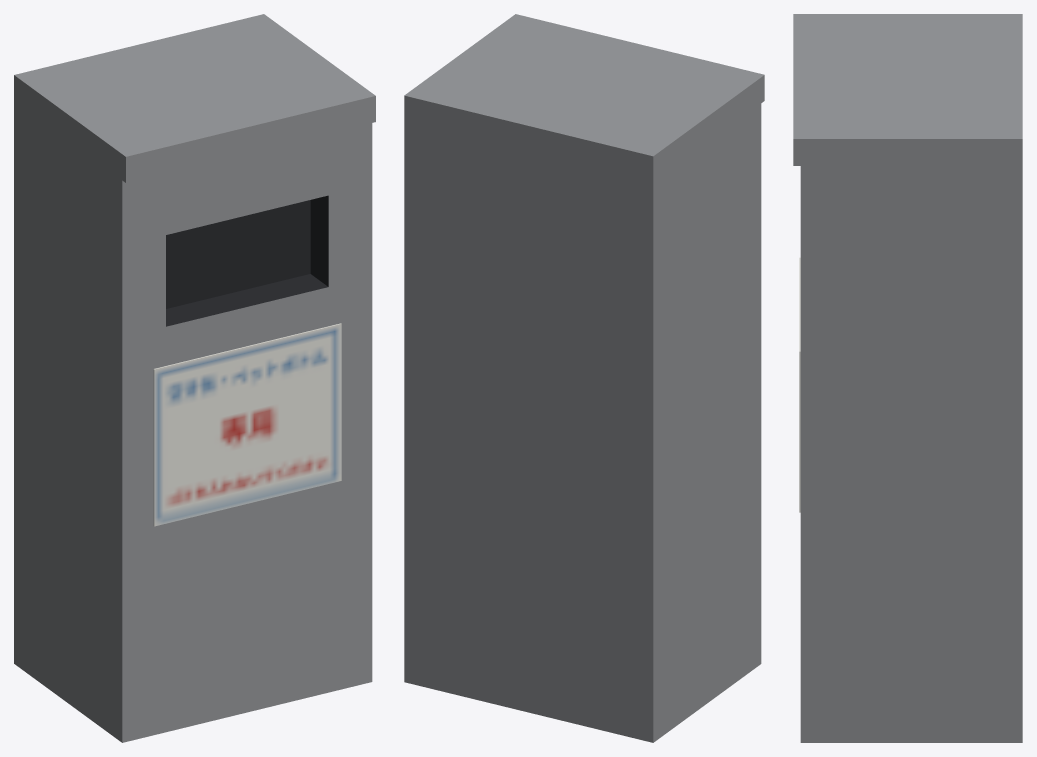
Rendered from SM_Street_RecycleBin_Steel_01.fbx.
3 views of the same model, side by side, from view 1: azimuth 30°, elevation 25°; view 2: azimuth 150°, elevation 25°; view 3: azimuth 270°, elevation 25° (orthographic). The views are drawn at different scales.
Parts seen in each view (by area): view 1: SM_Street_RecycleBin_Steel_01; view 2: SM_Street_RecycleBin_Steel_01; view 3: SM_Street_RecycleBin_Steel_01.
Part boxes in pixels (<box>): SM_Street_RecycleBin_Steel_01: <box>14,14,375,742</box>; SM_Street_RecycleBin_Steel_01: <box>404,14,764,742</box>; SM_Street_RecycleBin_Steel_01: <box>793,14,1022,742</box>.
Size of the model in its own units: 0.4 by 0.9 by 0.31.
Materials: 1 (1 with a texture image).
